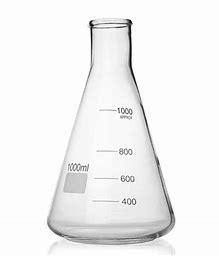Titrarion: (23, 24, 188, 241)
